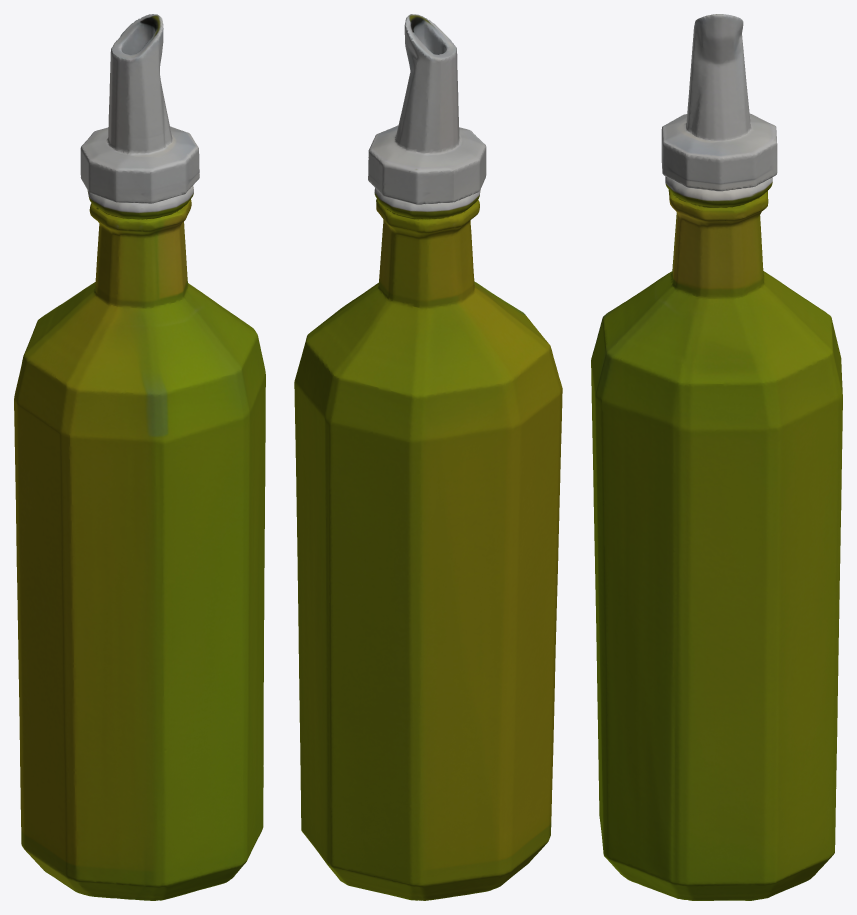
The model's file is glass bottle 3d model.glb.
3 renders of one model, left to right at view 1: azimuth 30°, elevation 25°; view 2: azimuth 150°, elevation 25°; view 3: azimuth 270°, elevation 25°, orthographic.
Parts seen in each view (by area): view 1: tripo_node_61254313-ebcb-4d24-a48c-8f0b4cd5763d; view 2: tripo_node_61254313-ebcb-4d24-a48c-8f0b4cd5763d; view 3: tripo_node_61254313-ebcb-4d24-a48c-8f0b4cd5763d.
Part boxes in pixels (x1,y1,x2,y2): tripo_node_61254313-ebcb-4d24-a48c-8f0b4cd5763d: [14, 14, 265, 900]; tripo_node_61254313-ebcb-4d24-a48c-8f0b4cd5763d: [294, 14, 562, 900]; tripo_node_61254313-ebcb-4d24-a48c-8f0b4cd5763d: [591, 14, 842, 900].
Bounding box in the file's own units: 0.2702 × 1 × 0.267.
1 material, 1 textured.
